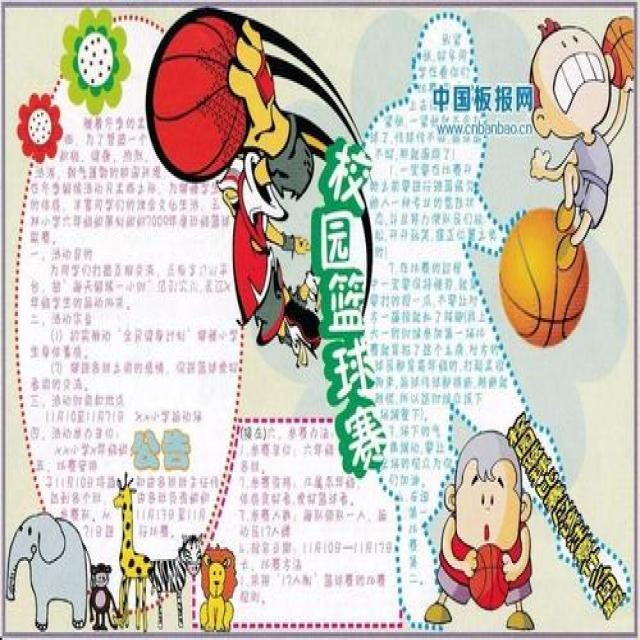rim: (499, 202, 589, 346)
